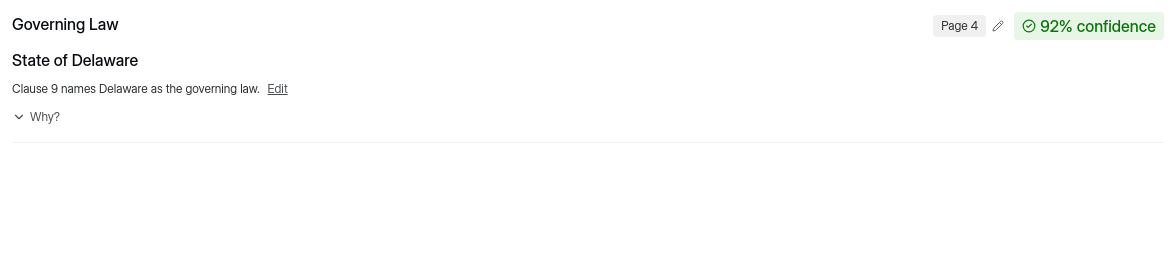
Scenario: WhySection (spec 07 v1.1 §C) › keeps the unverified-source warning
Click the button "Why?": (36, 117) left=12, top=108, right=60, bottom=126
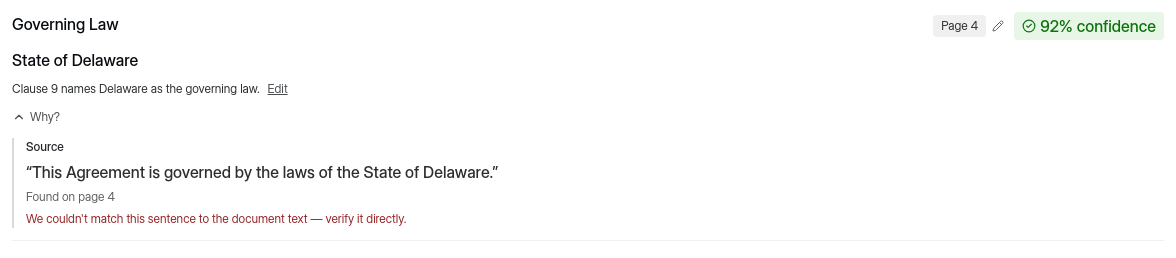
Expected: the text "couldn't match this sentence to the document text" is shown, left=26, top=211, right=406, bottom=226
